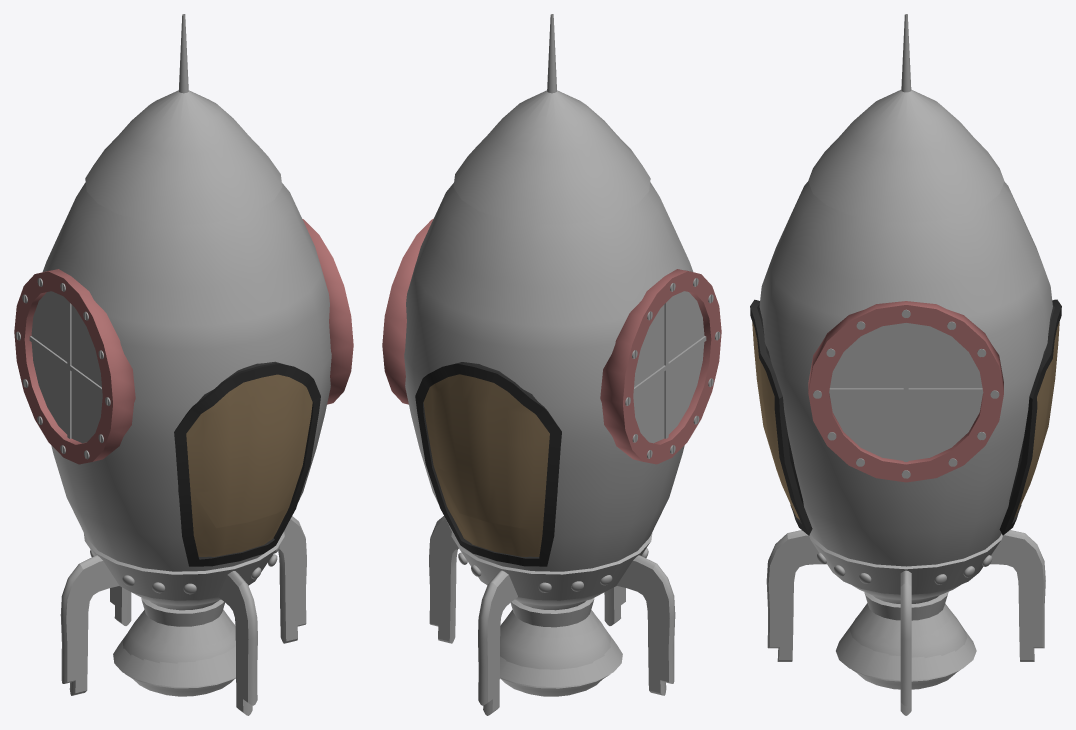
The model's file is Rocket.fbx.
3 views of the same model, side by side, from view 1: azimuth 30°, elevation 25°; view 2: azimuth 150°, elevation 25°; view 3: azimuth 270°, elevation 25° (orthographic).
Visible parts, largest first — view 1: polySurface8, Rocket:polySurface91, Rocket:pSphere14, polySurface102, Rocket:pSphere15, Rocket:polySurface94, Rocket:pSphere13, Rocket:polySurface93, polySurface99, Rocket:polySurface95, polySurface41, polySurface37 (+5 smaller); view 2: polySurface8, Rocket:polySurface90, Rocket:pSphere14, polySurface102, Rocket:pSphere15, Rocket:polySurface94, Rocket:pSphere13, Rocket:polySurface92, polySurface99, Rocket:polySurface95, polySurface34, polySurface36 (+4 smaller); view 3: polySurface8, Rocket:pSphere14, polySurface99, Rocket:pSphere15, Rocket:polySurface91, Rocket:polySurface90, Rocket:pSphere13, polySurface57, polySurface58, Rocket:polySurface92, Rocket:polySurface93, polySurface55 (+4 smaller).
Part boxes in pixels (left/top/right/bottom): polySurface8: left=42, top=182, right=331, bottom=686; Rocket:polySurface91: left=174, top=361, right=320, bottom=566; Rocket:pSphere14: left=85, top=14, right=282, bottom=224; polySurface102: left=14, top=269, right=135, bottom=464; Rocket:pSphere15: left=122, top=597, right=235, bottom=696; Rocket:polySurface94: left=60, top=555, right=119, bottom=695; Rocket:pSphere13: left=84, top=532, right=284, bottom=600; Rocket:polySurface93: left=218, top=571, right=257, bottom=715; polySurface99: left=302, top=219, right=353, bottom=404; Rocket:polySurface95: left=278, top=516, right=306, bottom=643; polySurface41: left=31, top=291, right=67, bottom=361; polySurface37: left=31, top=342, right=67, bottom=434; polySurface8: left=404, top=182, right=693, bottom=686; Rocket:polySurface90: left=415, top=362, right=561, bottom=566; Rocket:pSphere14: left=453, top=14, right=650, bottom=224; polySurface102: left=600, top=269, right=721, bottom=464; Rocket:pSphere15: left=500, top=597, right=610, bottom=696; Rocket:polySurface94: left=617, top=555, right=675, bottom=695; Rocket:pSphere13: left=451, top=532, right=652, bottom=600; Rocket:polySurface92: left=478, top=570, right=517, bottom=715; polySurface99: left=382, top=219, right=433, bottom=404; Rocket:polySurface95: left=429, top=516, right=458, bottom=643; polySurface34: left=668, top=291, right=704, bottom=361; polySurface36: left=668, top=342, right=704, bottom=434; polySurface8: left=759, top=181, right=1052, bottom=680; Rocket:pSphere14: left=808, top=14, right=1004, bottom=222; polySurface99: left=808, top=301, right=1003, bottom=482; Rocket:pSphere15: left=850, top=592, right=967, bottom=689; Rocket:polySurface91: left=750, top=299, right=812, bottom=535; Rocket:polySurface90: left=999, top=299, right=1061, bottom=535; Rocket:pSphere13: left=809, top=533, right=1002, bottom=594; polySurface57: left=908, top=393, right=982, bottom=460; polySurface58: left=829, top=393, right=903, bottom=460; Rocket:polySurface92: left=990, top=530, right=1045, bottom=661; Rocket:polySurface93: left=766, top=530, right=826, bottom=661; polySurface55: left=908, top=323, right=982, bottom=388.
Size of the model in its own units: 2.19 by 5.69 by 2.44.
